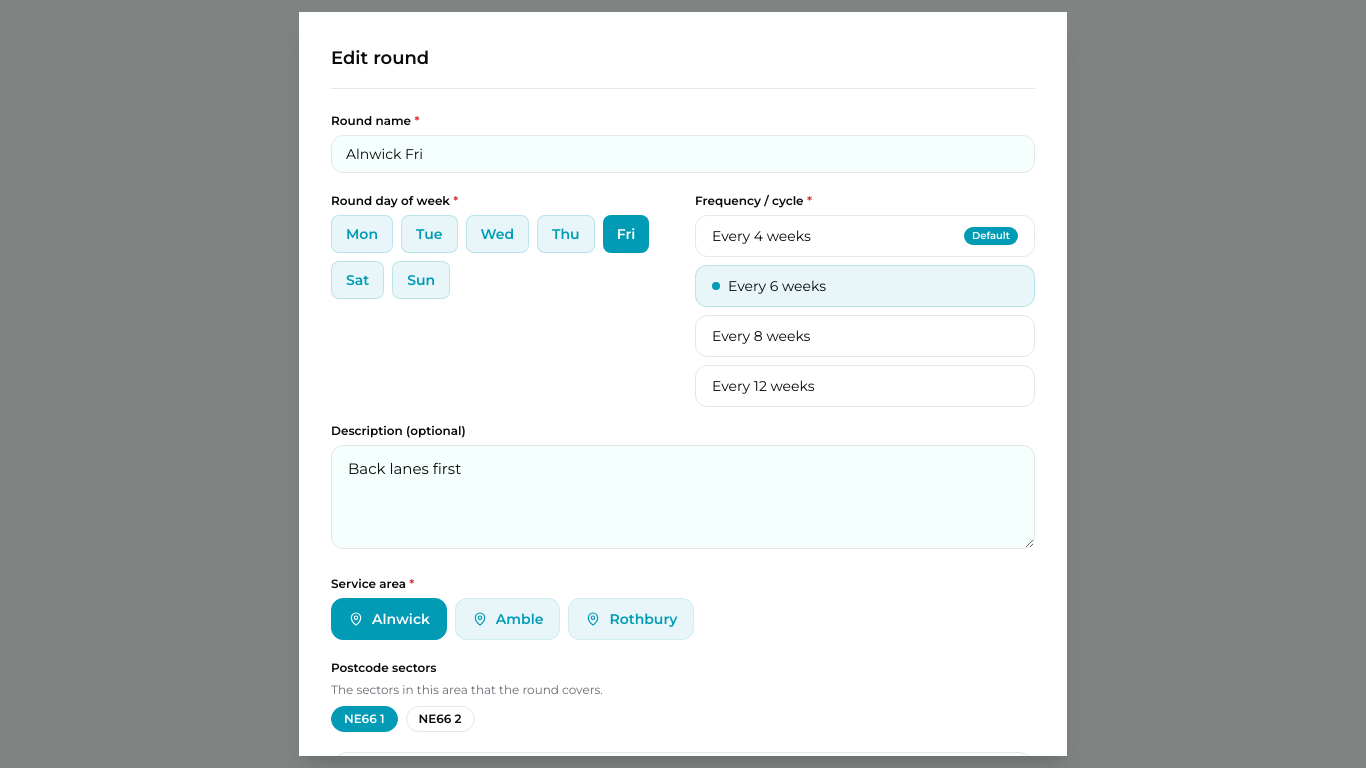
Edit round › says when an area has no sectors
Click the button "Rothbury" at (631, 619), box [568, 598, 694, 640]
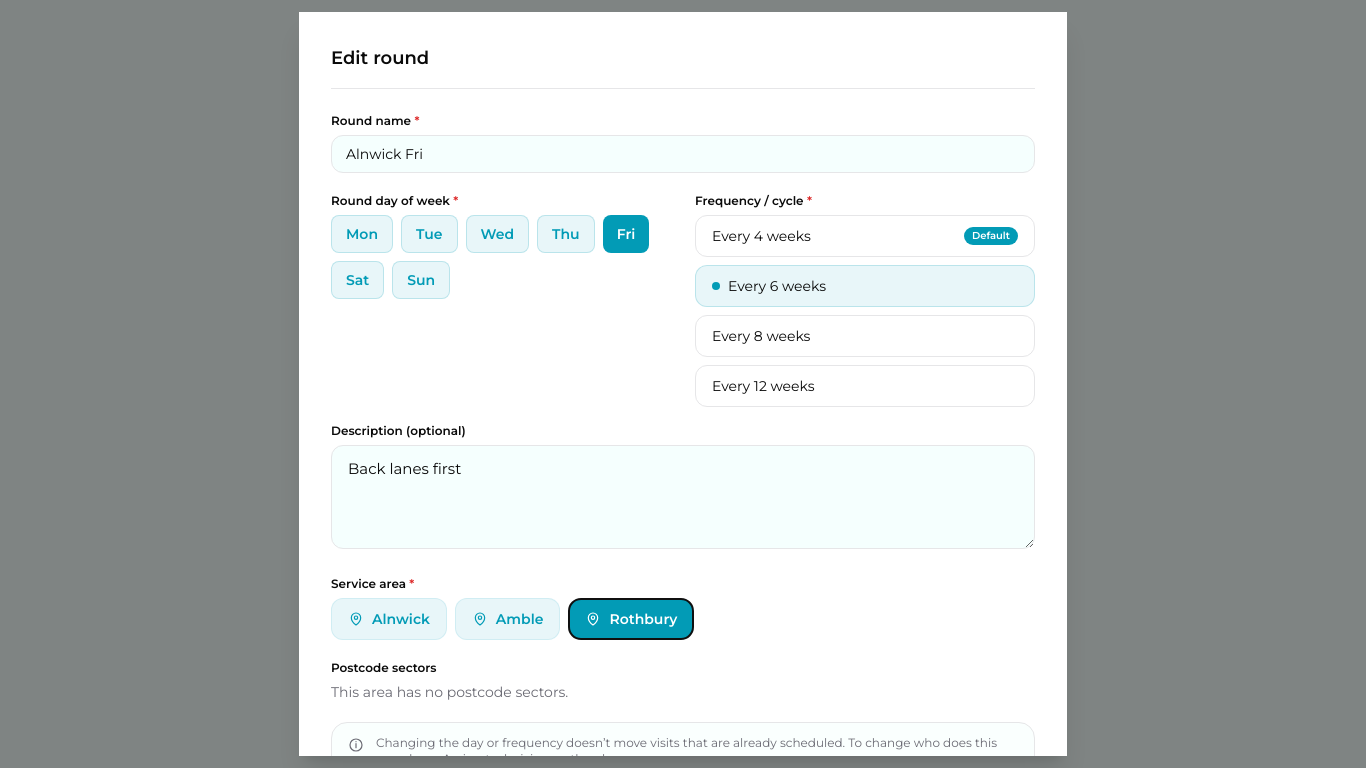
Check: the text "This area has no postcode sectors." is shown, box [331, 683, 568, 701]
